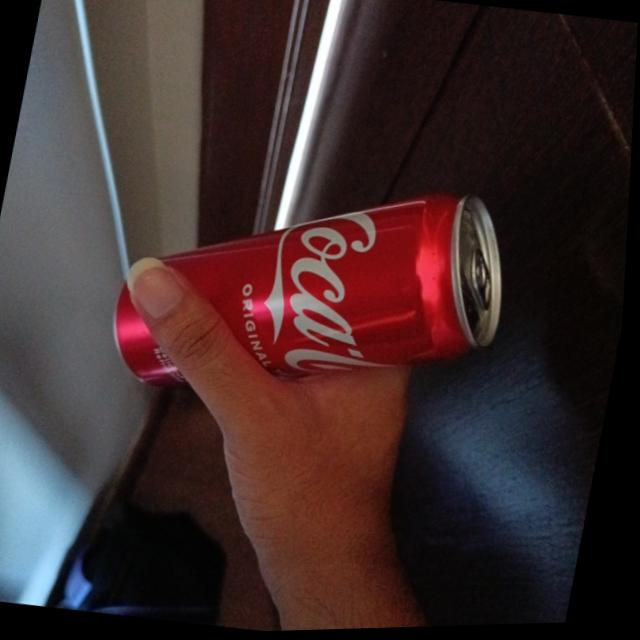coke: (102, 149, 525, 430)
